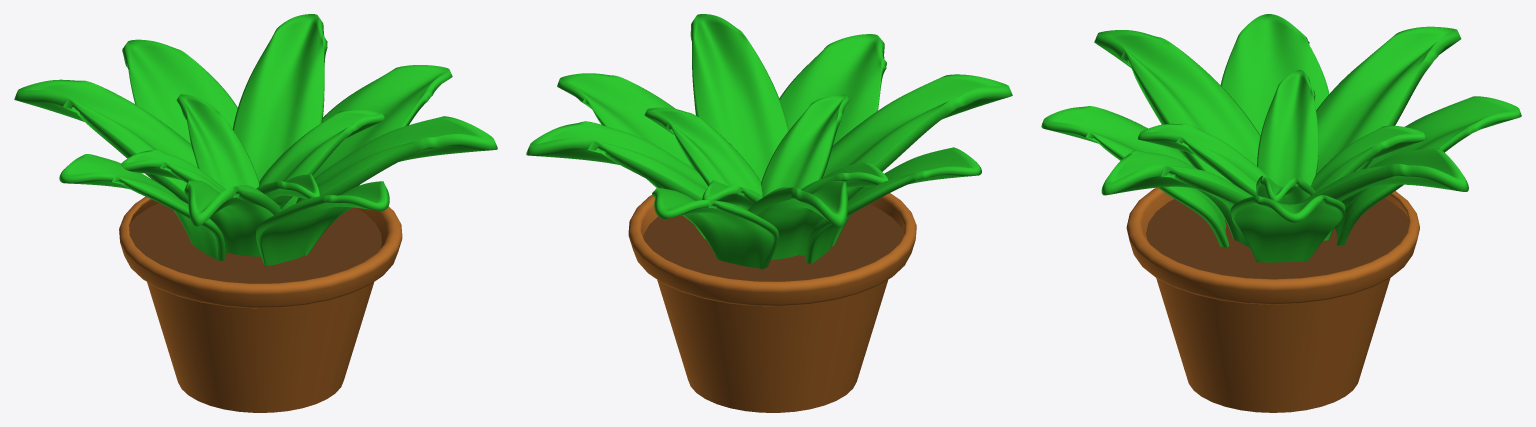
File: Plant.fbx
The picture shows the model from 3 angles, left to right: view 1: azimuth 30°, elevation 25°; view 2: azimuth 150°, elevation 25°; view 3: azimuth 270°, elevation 25°; orthographic projection. The views are drawn at different scales.
Parts seen in each view (by area): view 1: Cylinder, Plane.006, Cylinder.001, Plane.005, Plane.001, Plane.004, Plane.002, Plane, Plane.007, Plane.009, Plane.003, Plane.010 (+2 smaller); view 2: Cylinder, Plane.004, Cylinder.001, Plane.007, Plane, Plane.006, Plane.001, Plane.002, Plane.008, Plane.005, Plane.010, Plane.003 (+2 smaller); view 3: Cylinder, Cylinder.001, Plane.007, Plane.005, Plane.003, Plane.002, Plane.011, Plane, Plane.001, Plane.004, Plane.006, Plane.008 (+2 smaller).
Boxes of the visible parts, bbox=[...] form: Cylinder: bbox=[119, 196, 402, 412]; Plane.006: bbox=[232, 14, 327, 210]; Cylinder.001: bbox=[129, 203, 381, 283]; Plane.005: bbox=[14, 79, 197, 203]; Plane.001: bbox=[122, 39, 237, 143]; Plane.004: bbox=[296, 116, 497, 203]; Plane.002: bbox=[313, 65, 452, 186]; Plane: bbox=[256, 181, 389, 266]; Plane.007: bbox=[184, 180, 281, 256]; Plane.009: bbox=[176, 94, 259, 189]; Plane.003: bbox=[59, 154, 225, 260]; Plane.010: bbox=[258, 109, 384, 208]; Cylinder: bbox=[628, 193, 916, 412]; Plane.004: bbox=[690, 14, 788, 181]; Cylinder.001: bbox=[643, 204, 904, 281]; Plane.007: bbox=[822, 74, 1012, 199]; Plane: bbox=[779, 34, 886, 145]; Plane.006: bbox=[526, 121, 708, 200]; Plane.001: bbox=[652, 187, 778, 269]; Plane.002: bbox=[557, 73, 705, 239]; Plane.008: bbox=[761, 94, 849, 197]; Plane.005: bbox=[748, 180, 848, 259]; Plane.010: bbox=[644, 107, 762, 195]; Plane.003: bbox=[805, 147, 981, 263]; Cylinder: bbox=[1126, 187, 1419, 412]; Cylinder.001: bbox=[1146, 198, 1409, 279]; Plane.007: bbox=[1094, 30, 1260, 183]; Plane.005: bbox=[1316, 26, 1461, 173]; Plane.003: bbox=[1220, 14, 1329, 135]; Plane.002: bbox=[1230, 195, 1345, 262]; Plane.011: bbox=[1257, 70, 1318, 187]; Plane: bbox=[1041, 106, 1229, 247]; Plane.001: bbox=[1334, 96, 1521, 245]; Plane.004: bbox=[1101, 150, 1252, 247]; Plane.006: bbox=[1302, 148, 1468, 240]; Plane.008: bbox=[1138, 123, 1268, 196].
Bounding box in the file's own units: 170 × 109 × 170.
